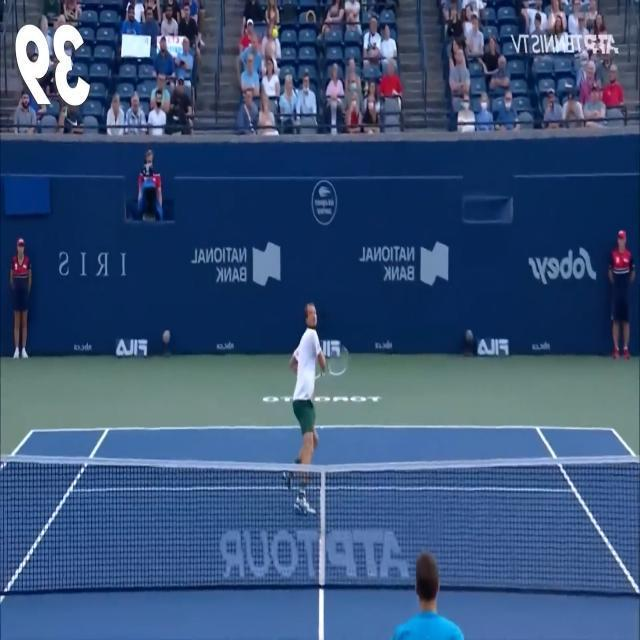player: (391, 548, 464, 640)
